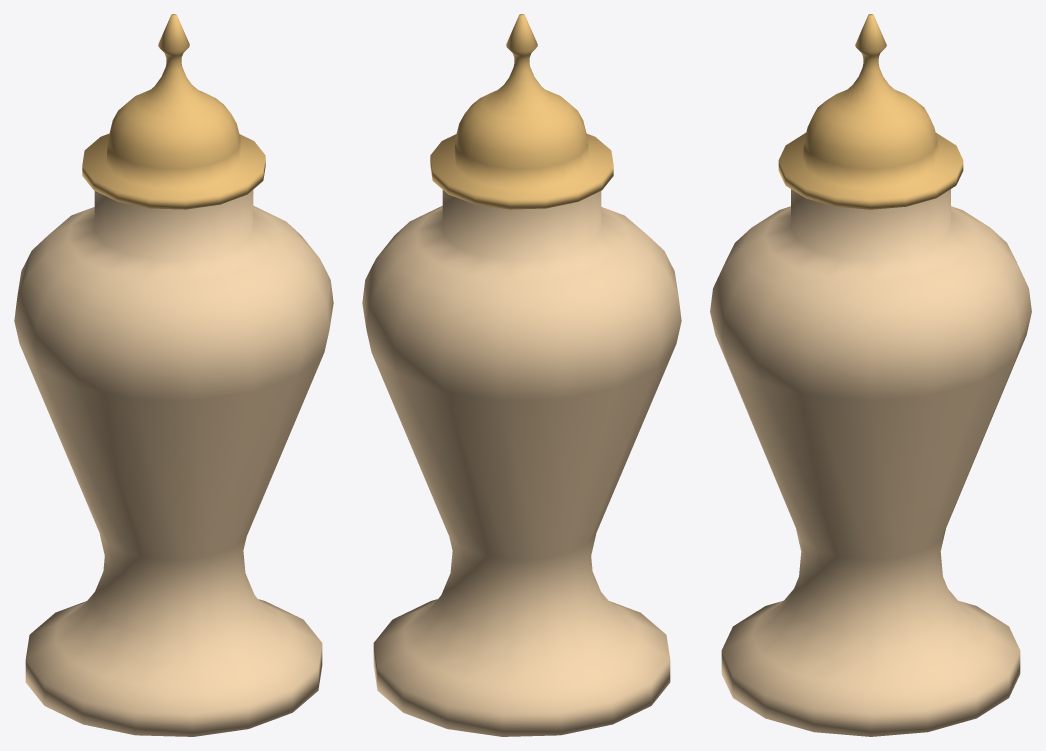
Rendered from BrassPot.fbx.
3 views of the same model, side by side, from view 1: azimuth 30°, elevation 25°; view 2: azimuth 150°, elevation 25°; view 3: azimuth 270°, elevation 25° (orthographic).
Visible parts, largest first — view 1: BrassPot, BrassPotCap; view 2: BrassPot, BrassPotCap; view 3: BrassPot, BrassPotCap.
Part boxes in pixels (x1,y1,x2,y2): BrassPot: [14, 190, 333, 736]; BrassPotCap: [82, 14, 265, 209]; BrassPot: [362, 190, 681, 736]; BrassPotCap: [430, 14, 613, 209]; BrassPot: [710, 189, 1031, 736]; BrassPotCap: [778, 14, 963, 209].
Bounding box in the file's own units: 2.15 × 2.15 × 4.86.
